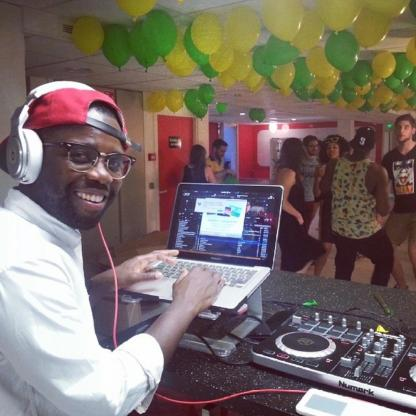board: (118, 183, 284, 308)
